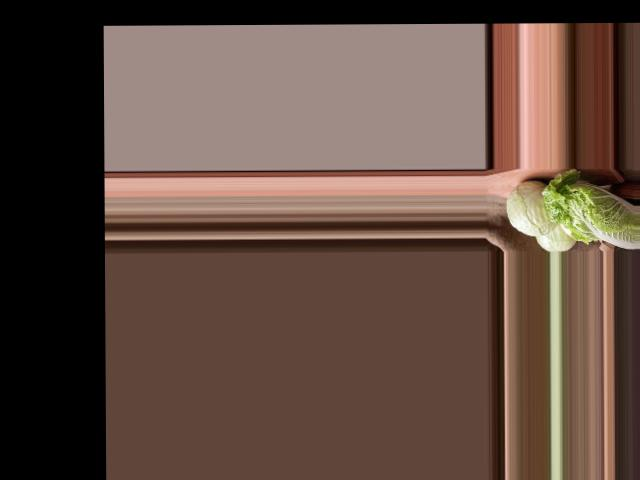lettuce: (542, 167, 633, 246)
